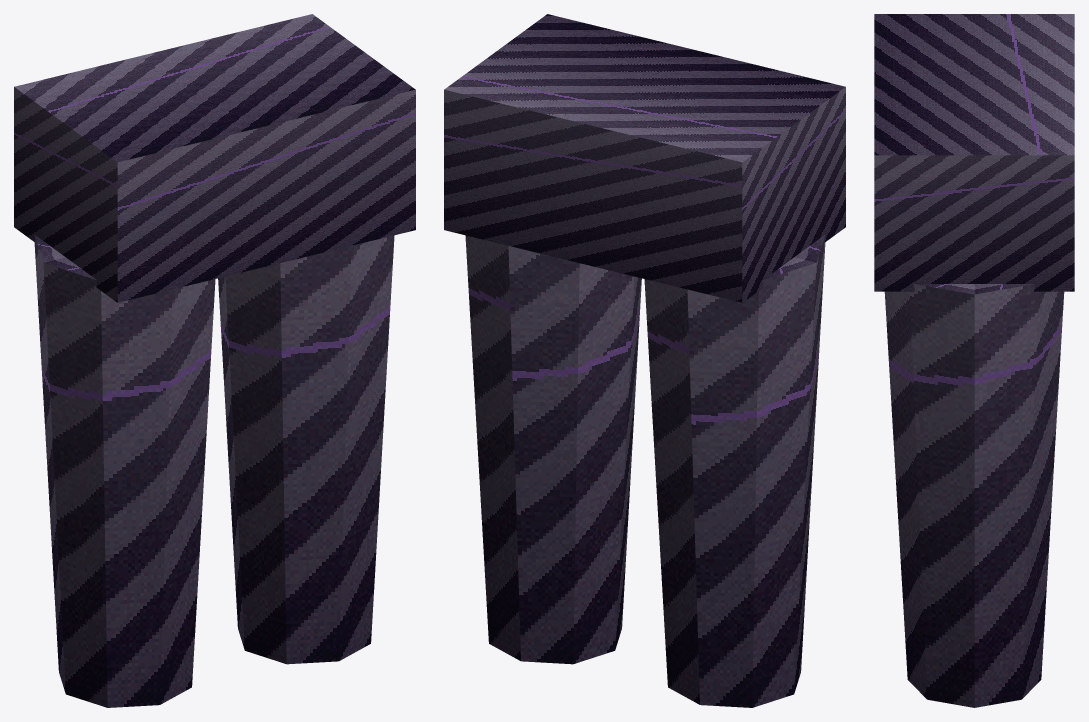
Rendered from calcas_de_obsidiana.glb.
3 renders of one model, left to right at view 1: azimuth 30°, elevation 25°; view 2: azimuth 150°, elevation 25°; view 3: azimuth 270°, elevation 25°, orthographic. The views are drawn at different scales.
Parts seen in each view (by area): view 1: calcas_de_obsidiana; view 2: calcas_de_obsidiana; view 3: calcas_de_obsidiana.
Boxes of the visible parts, <box> form: calcas_de_obsidiana: <box>14,14,415,707</box>; calcas_de_obsidiana: <box>444,14,845,707</box>; calcas_de_obsidiana: <box>874,14,1074,707</box>.
Size of the model in its own units: 0.46 by 0.73 by 0.24.
Materials: 1 (1 with a texture image).
